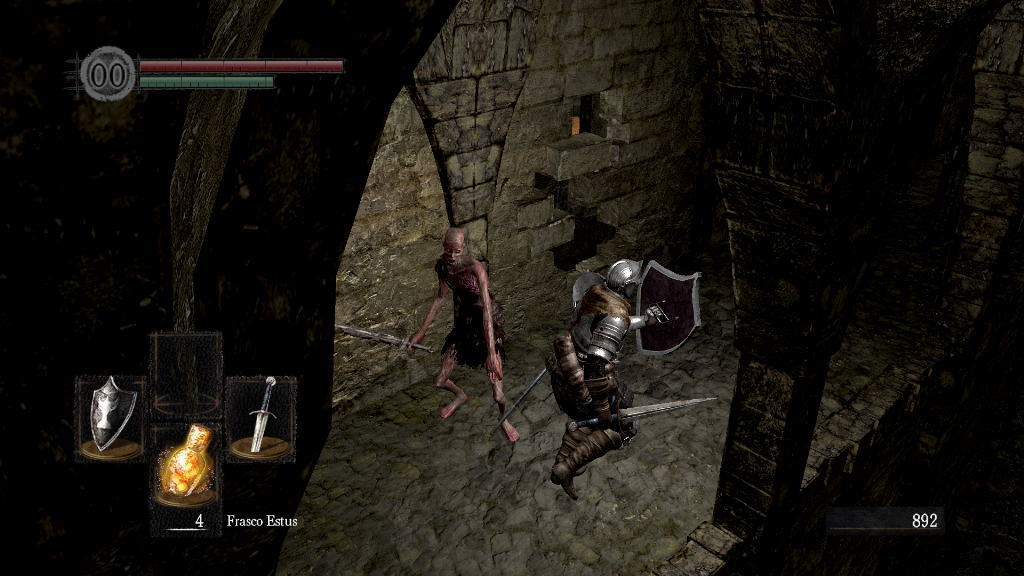health: (138, 58, 343, 71)
hollow: (404, 229, 522, 442)
humanity: (80, 45, 136, 102)
player: (546, 256, 722, 503)
souls: (825, 506, 945, 536)
stamina: (138, 74, 274, 88)
